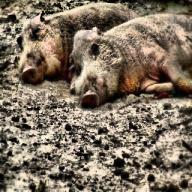boar: (67, 12, 192, 109), (16, 1, 140, 86)
